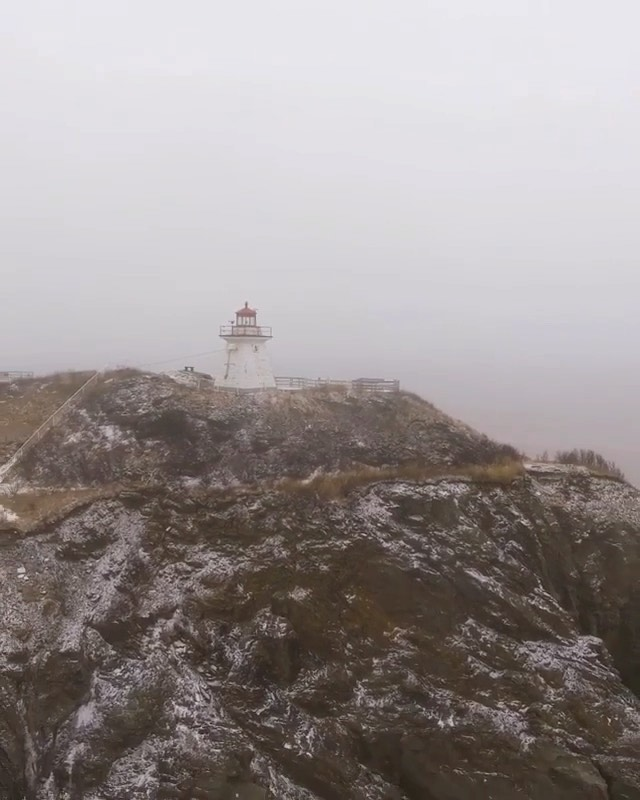building: (212, 297, 279, 399)
mountain: (17, 372, 640, 800)
sky: (1, 1, 633, 365)
